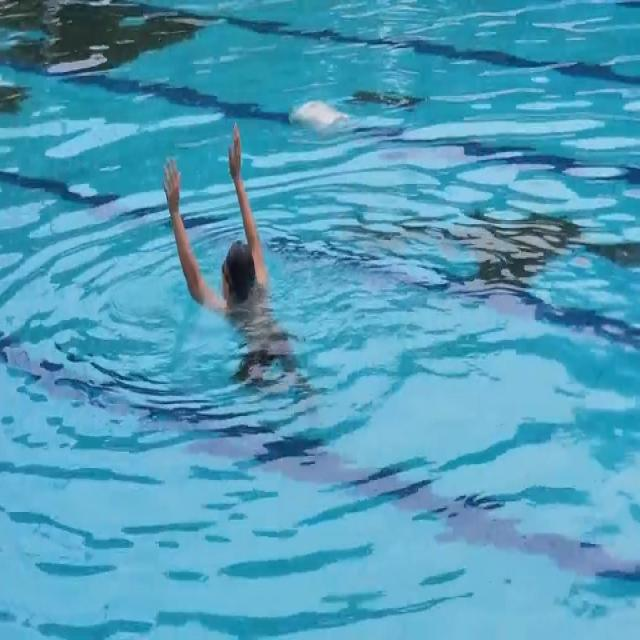Drowning: (160, 122, 309, 401)
